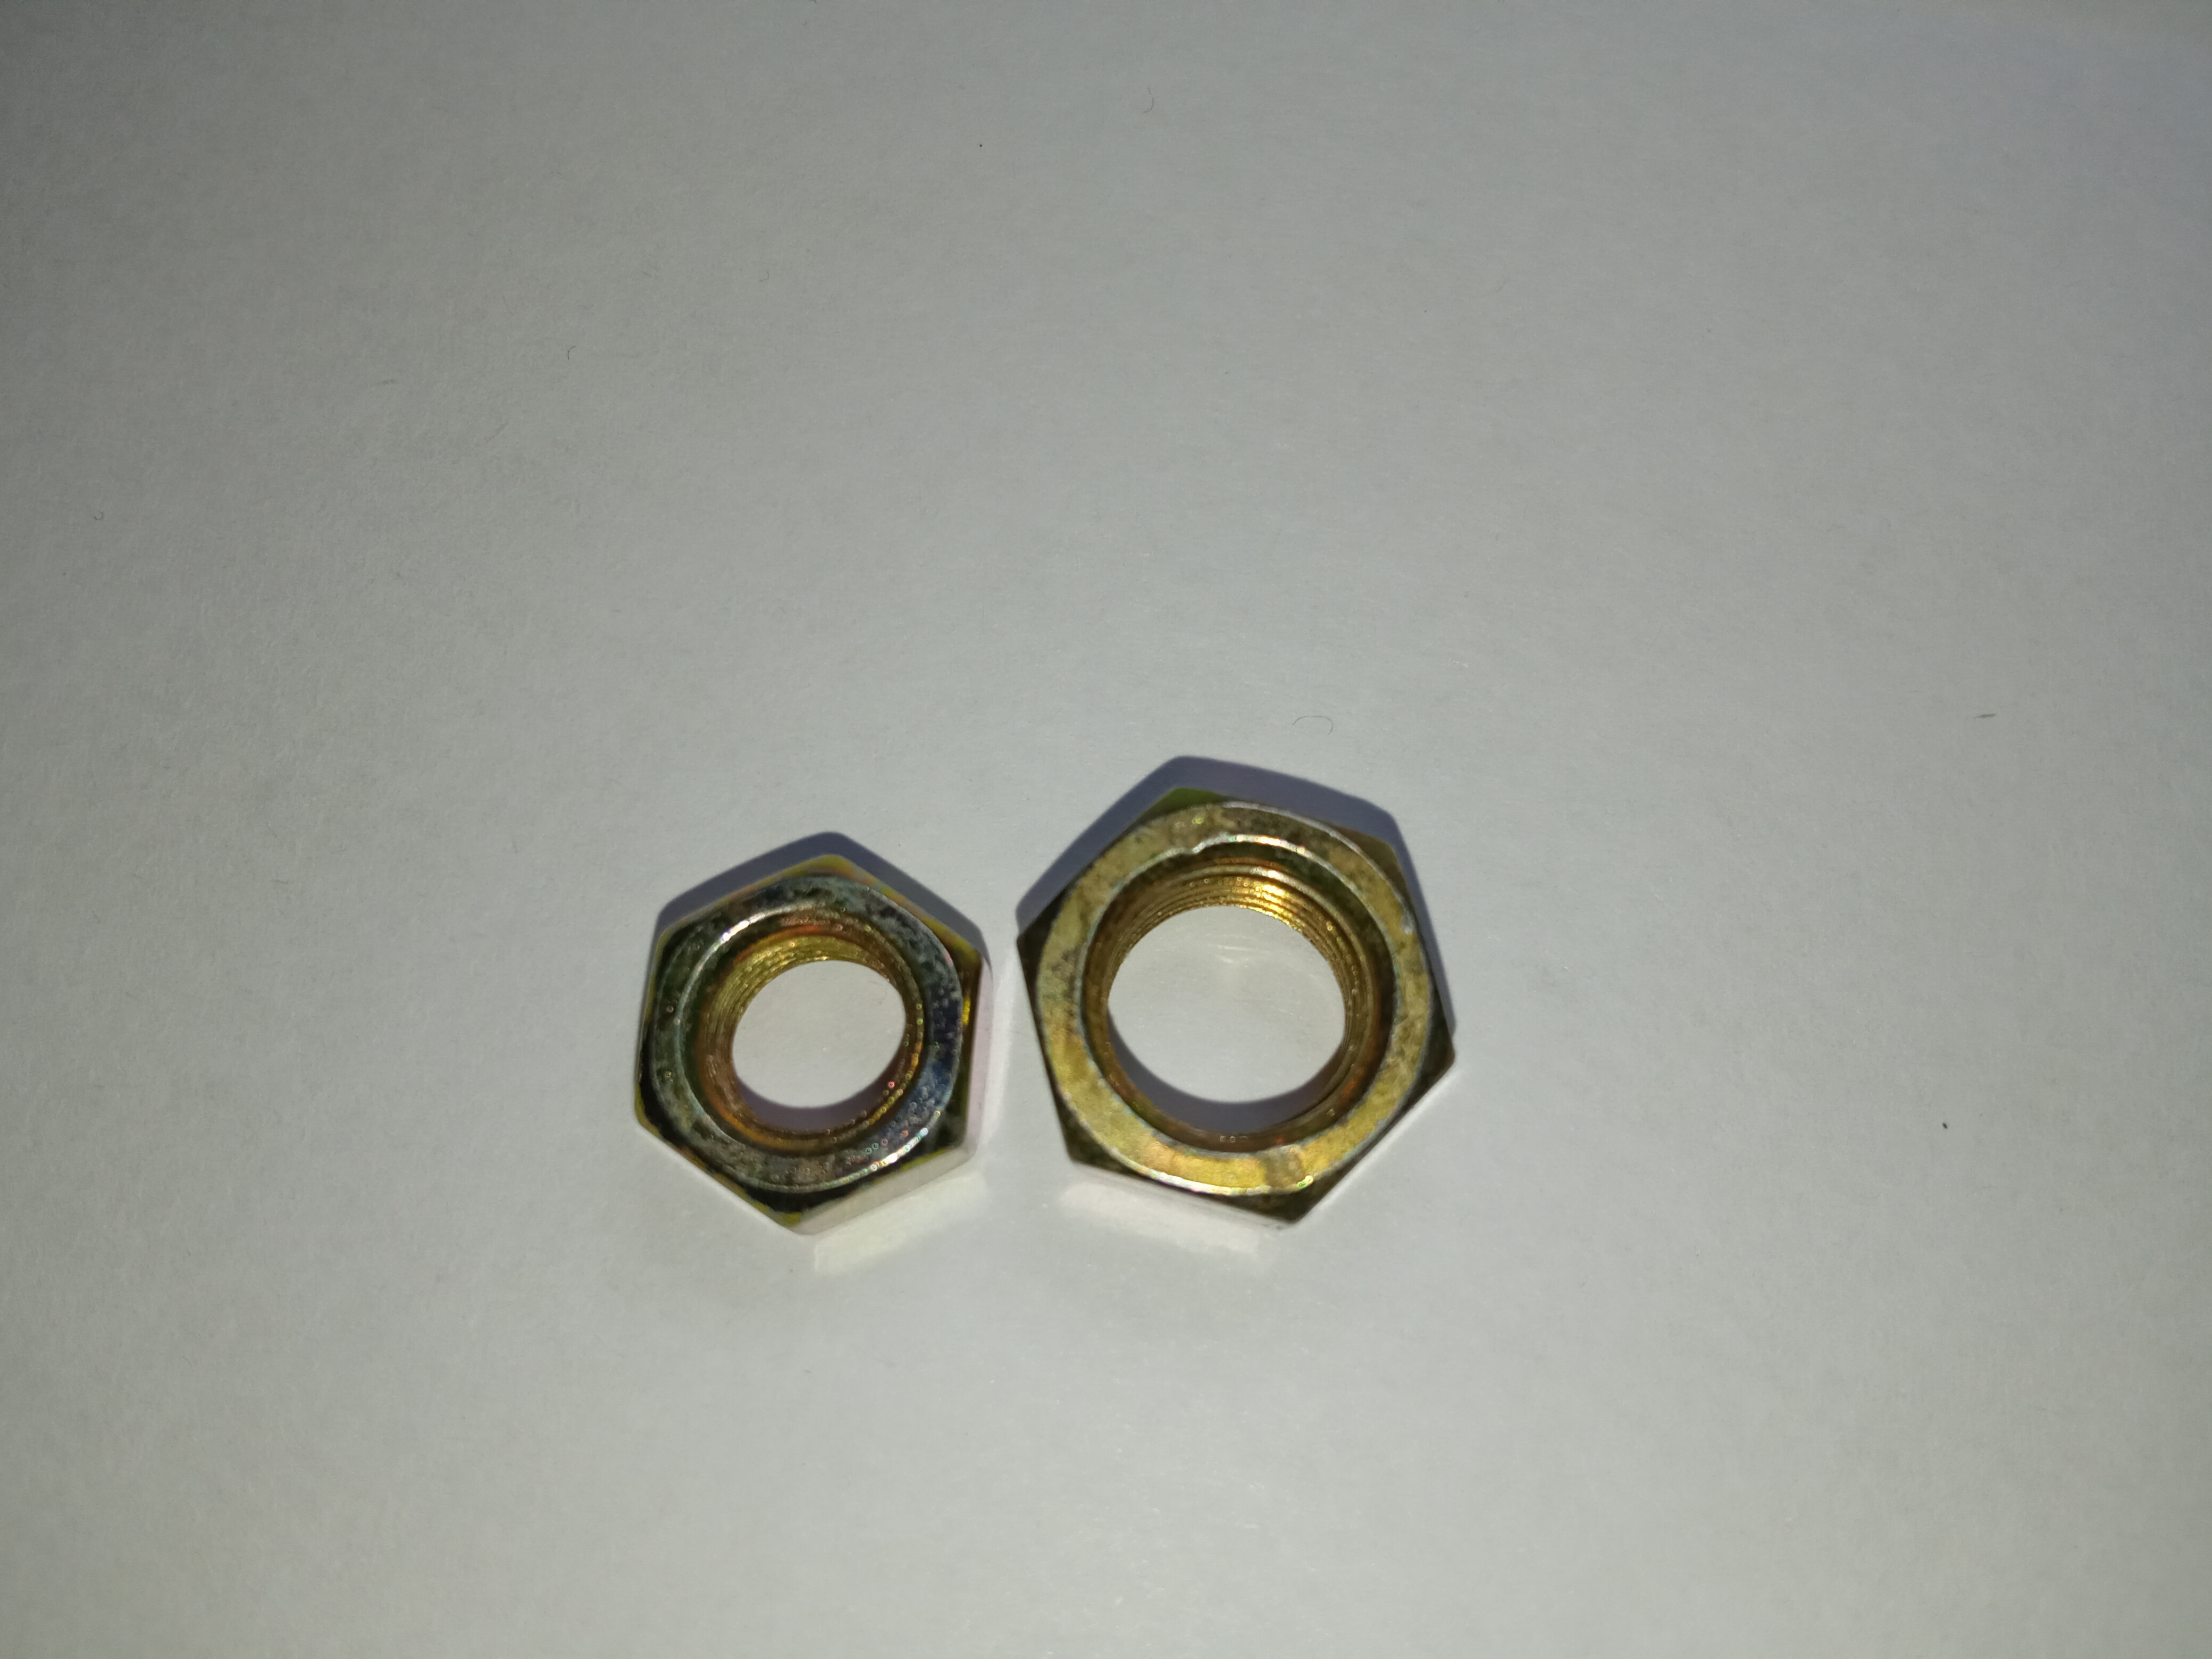m10: (1045, 814, 1432, 1201)
m8: (629, 878, 982, 1202)
